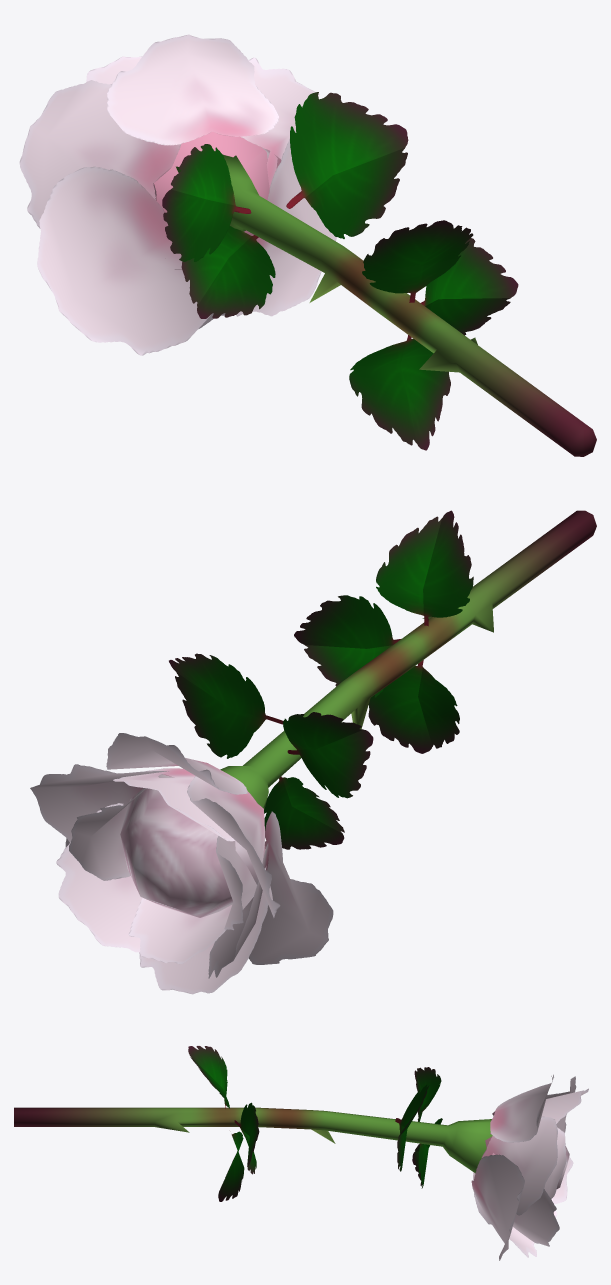
Rendered from SM_Rose_White_Open.fbx.
3 renders of one model, top to bottom at view 1: azimuth 30°, elevation 25°; view 2: azimuth 150°, elevation 25°; view 3: azimuth 270°, elevation 25°, orthographic. The views are drawn at different scales.
Visible parts, largest first — view 1: Rose_White_Open; view 2: Rose_White_Open; view 3: Rose_White_Open.
Boxes of the visible parts, left/top/right/bottom form: Rose_White_Open: left=19, top=34, right=596, bottom=456; Rose_White_Open: left=30, top=510, right=596, bottom=994; Rose_White_Open: left=14, top=1046, right=588, bottom=1260.
Size of the model in its own units: 50.21 by 50.94 by 127.
